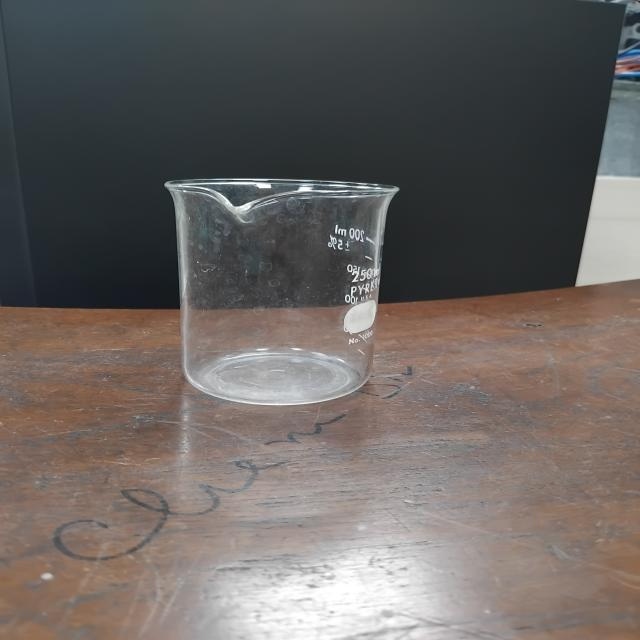Beaker: (142, 146, 442, 421)
